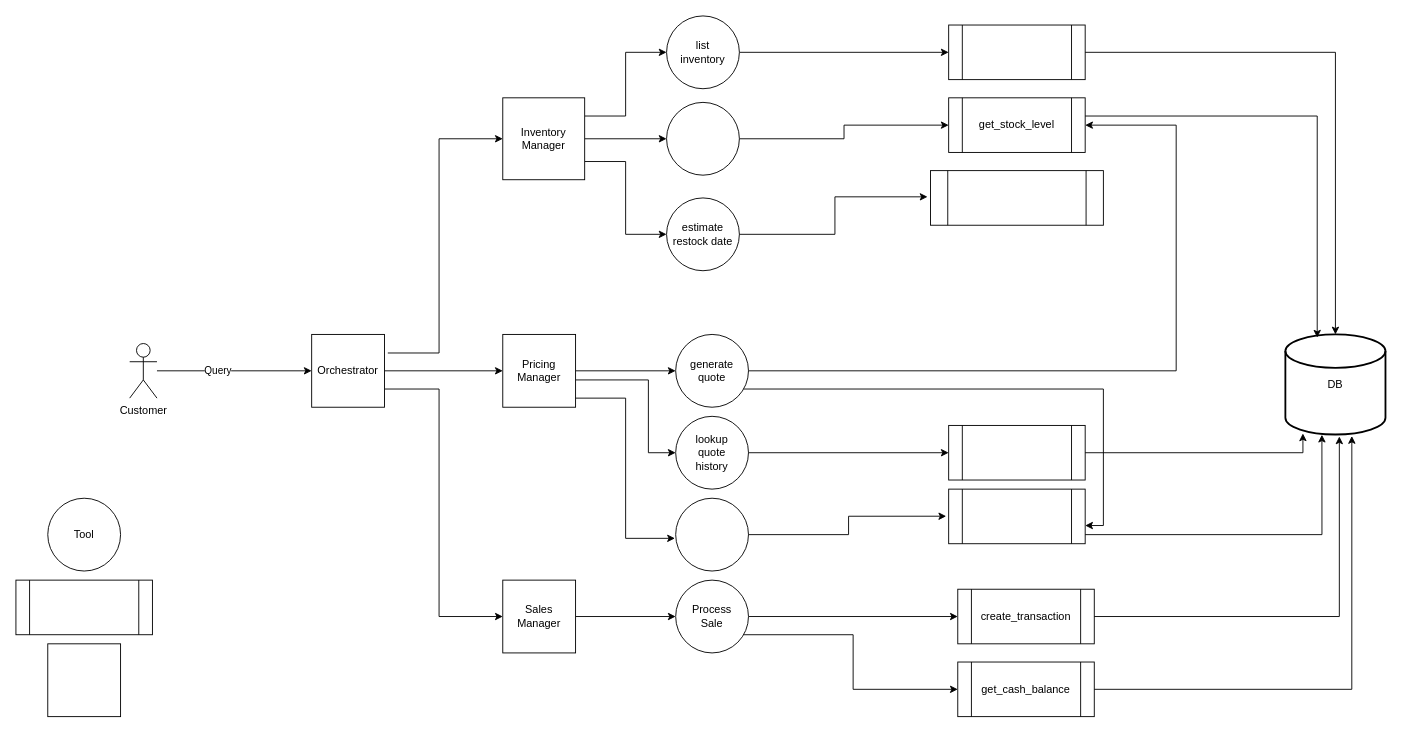
Some shapes in this 1402 by 733 pixel diagram are drawn without their labels. Here are the shapes that lost their labels. From the top down, the centre of each, then its label:
At point 1016,52: "get_all_inventory".
At point 702,138: "check item stock".
At point 1016,197: "get_supplier_delivery_date".
At point 1016,452: "search_quote_history".
At point 711,534: "get unit price".
At point 1016,516: "search_item_price".
At point 83,607: "Function".
At point 84,680: "Agent".
